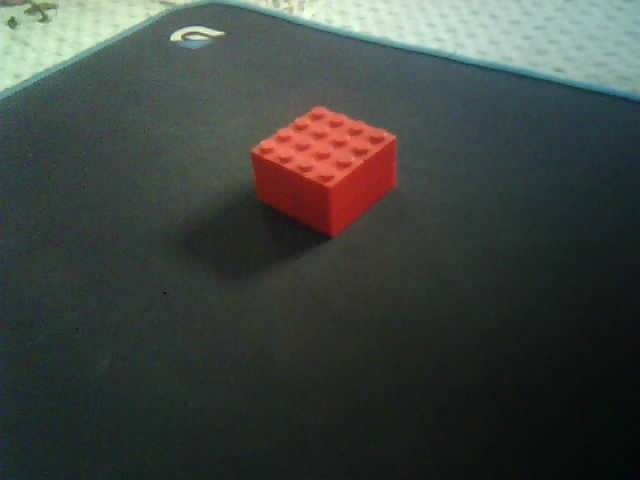lego: (249, 105, 397, 238)
